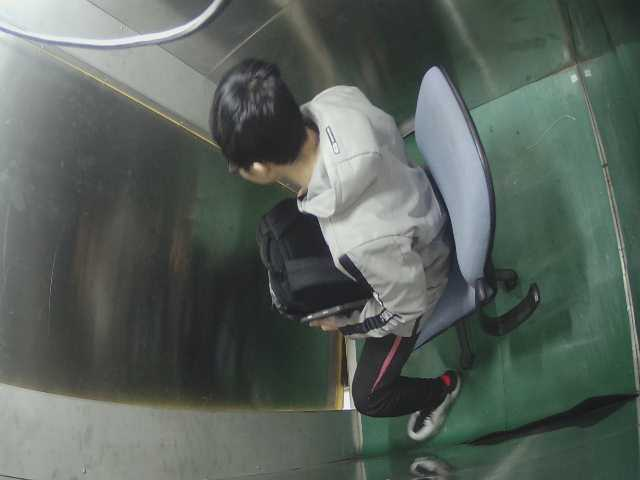bag: (242, 197, 366, 318)
chair: (361, 67, 556, 370)
person: (196, 53, 468, 434)
